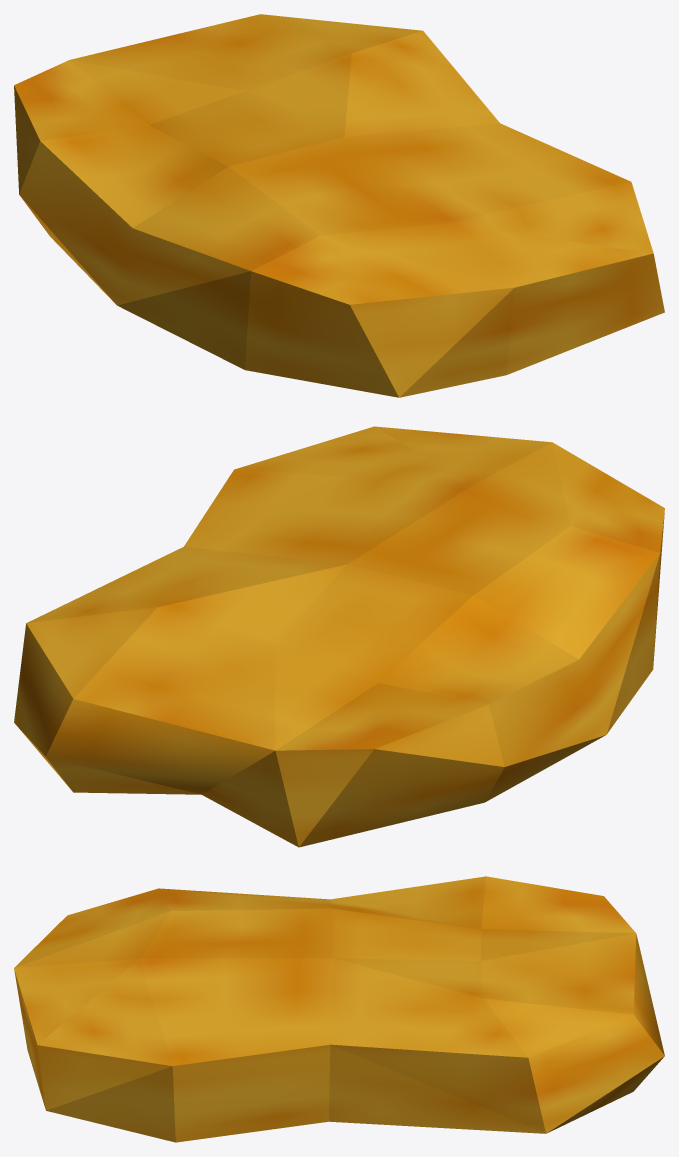
File: nugget.obj
3 views of the same model, one above another, from view 1: azimuth 30°, elevation 25°; view 2: azimuth 150°, elevation 25°; view 3: azimuth 270°, elevation 25° (orthographic). The views are drawn at different scales.
Visible parts, largest first — view 1: Cube_Mesh; view 2: Cube_Mesh; view 3: Cube_Mesh.
Part boxes in pixels (x1,y1,x2,y2): Cube_Mesh: (14, 14, 664, 397); Cube_Mesh: (14, 426, 664, 847); Cube_Mesh: (14, 876, 664, 1142).
Bounding box in the file's own units: 0.0538 × 0.0153 × 0.0793.
